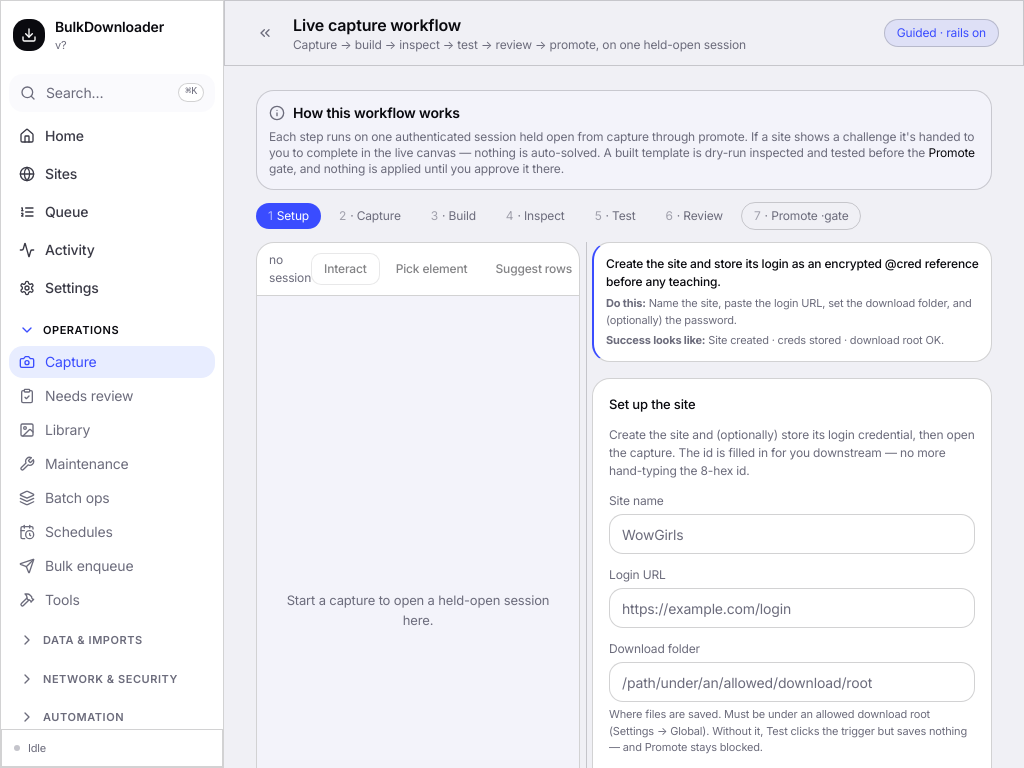
Scenario: row 363 workflow reachability › distinguishes an authoritatively empty listing from an unproved zero crawl
Expected: the heading "Live capture workflow" is shown, [293, 15, 461, 35]
Type "Measured site" into the field with placeholder "WowGirls". click: (792, 534)
box: [609, 514, 975, 554]
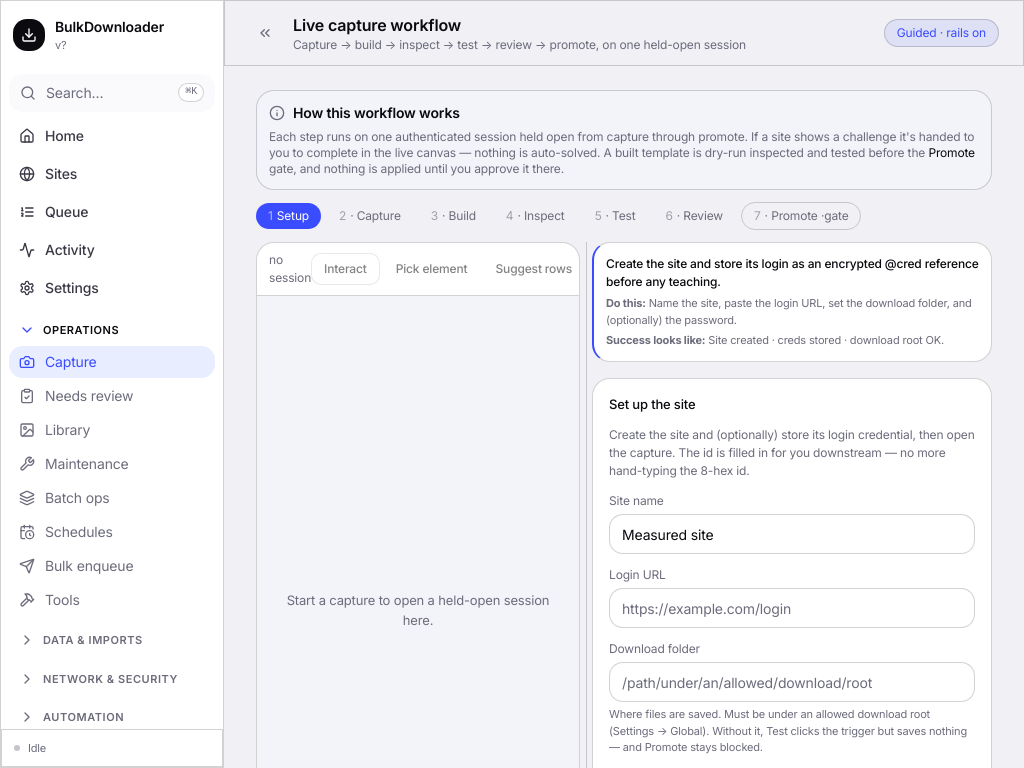
Type "https://members.example.invalid/login" into the field with placeholder "https://example.com/login". click: (792, 608)
box: [609, 588, 975, 628]
(page scrolled)
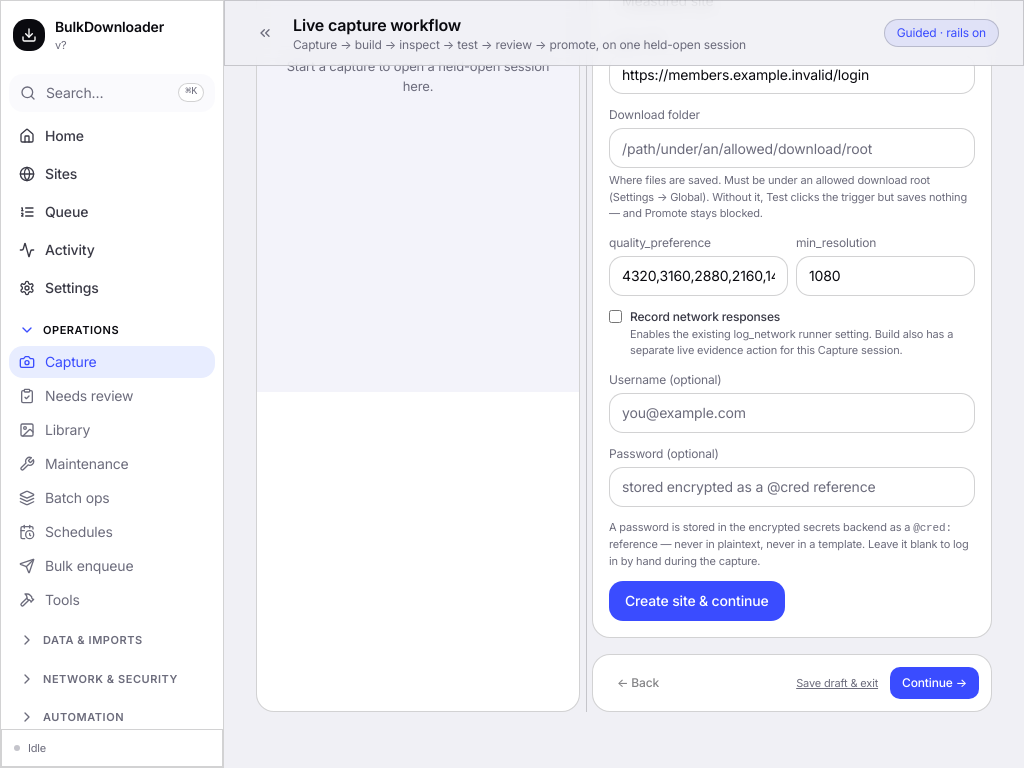
Click the button "Create site & continue". click: (697, 601)
box: [609, 581, 785, 621]
(page scrolled)
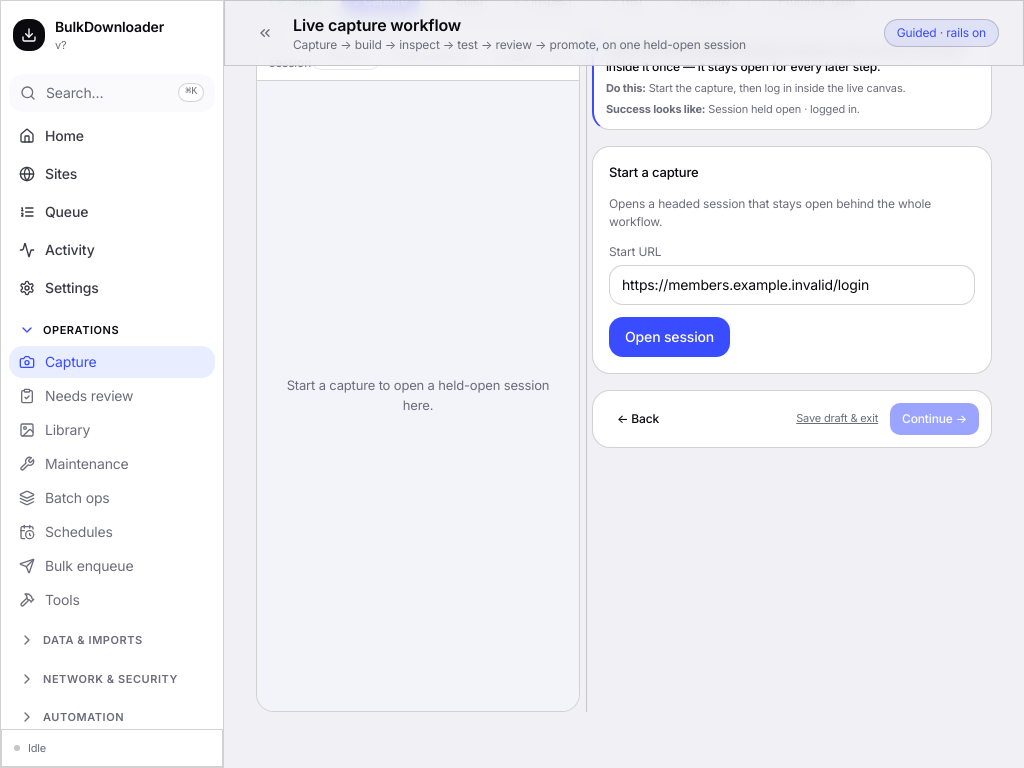
Now the text "Start a capture" is shown, box [609, 164, 699, 180]
Click the button "Open session". click: (670, 336)
box: [609, 316, 730, 356]
(page scrolled)
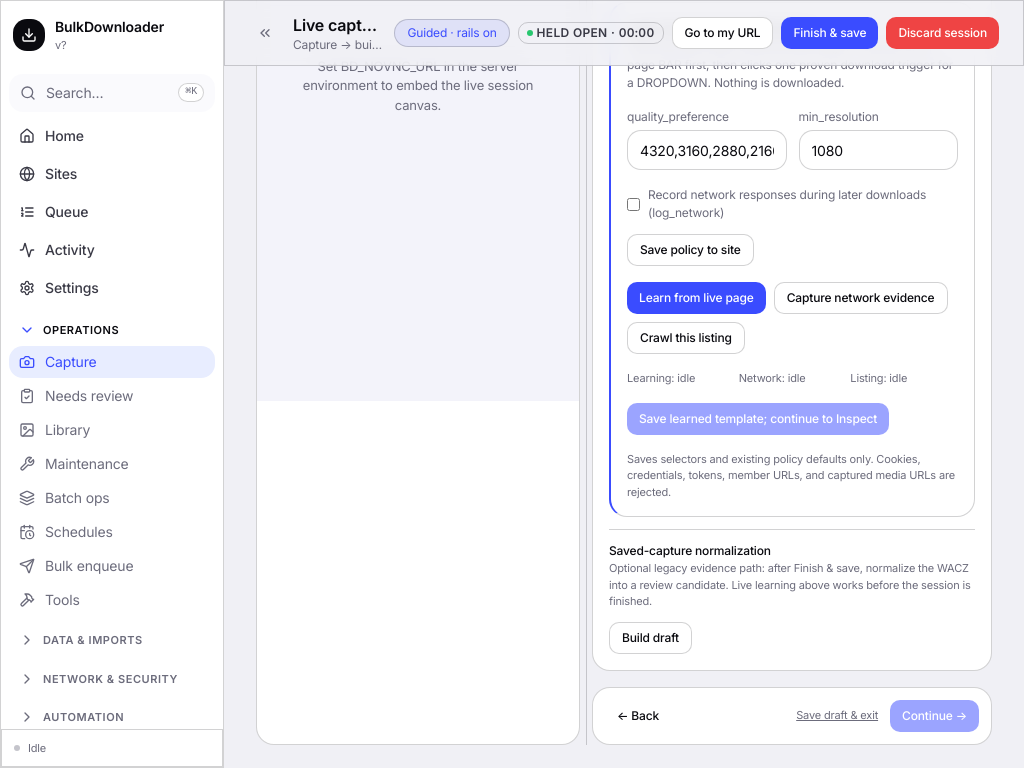
Now the text "Learn the download affordance" is shown, box [627, 20, 816, 36]
Click the button "Crawl this listing". click: (686, 338)
box: [627, 322, 745, 354]
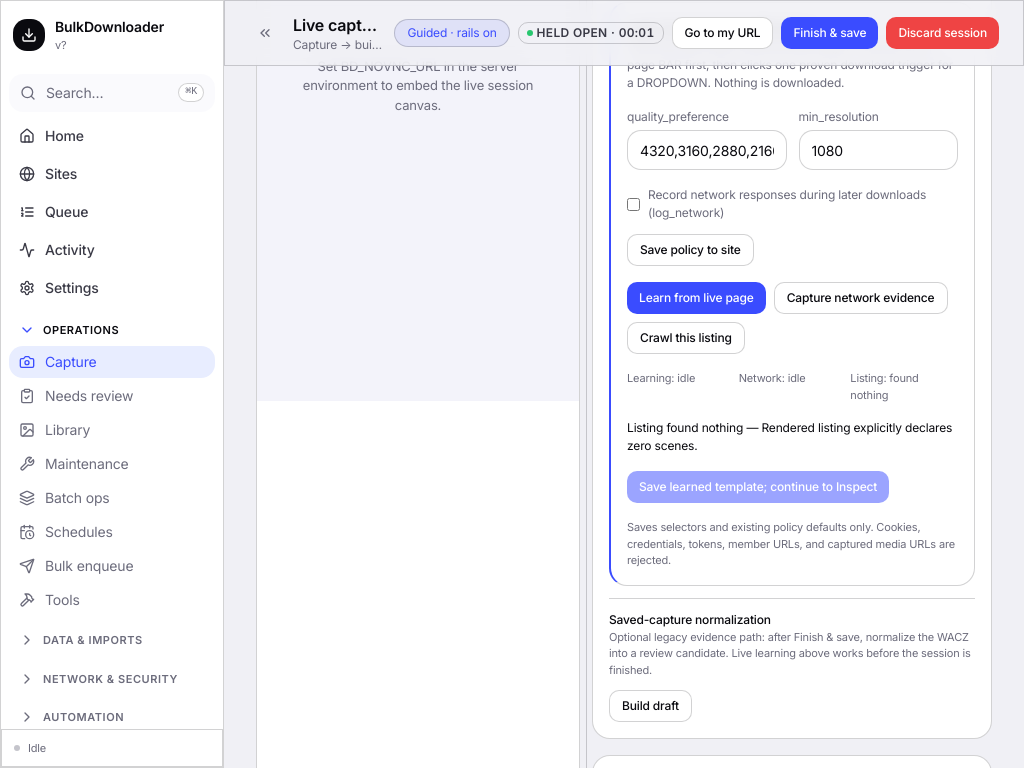
Now the text "Listing: found nothing" is shown, box [850, 371, 919, 402]
Now the text "Listing found nothing — Rendered listing explicitly declares zero scenes." is shown, box [627, 419, 958, 455]
Click the button "Crawl this listing". click: (686, 338)
box: [627, 322, 745, 354]
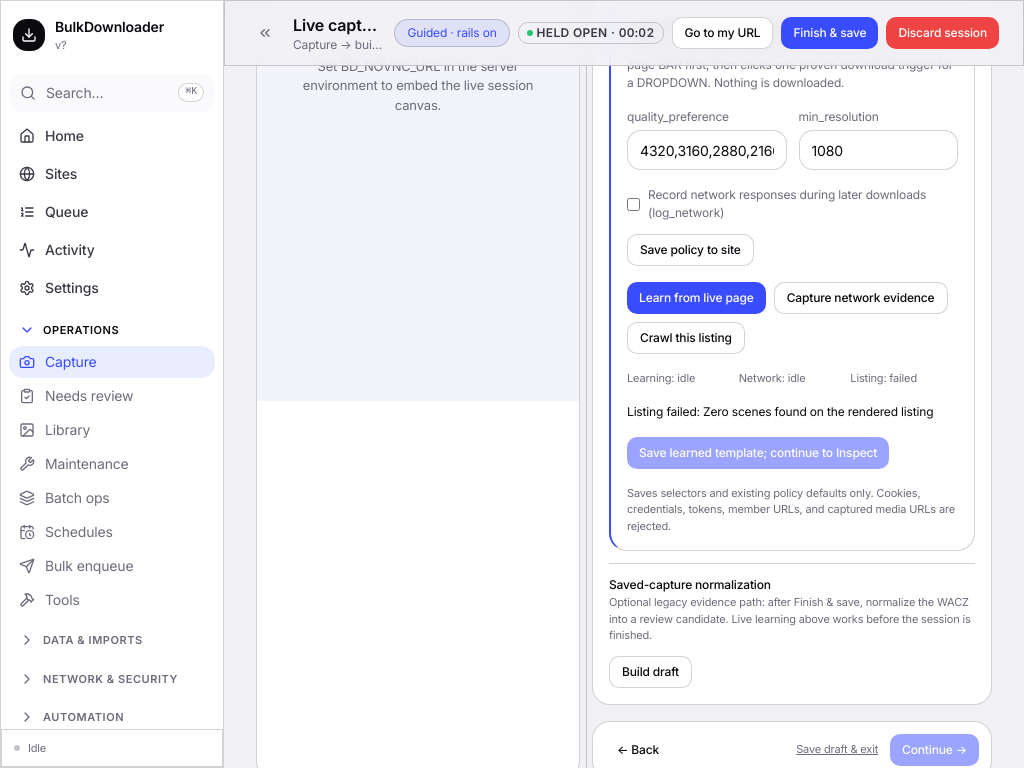
Now the text "Listing failed: Zero scenes found on the rendered listing" is shown, box [627, 402, 958, 420]
